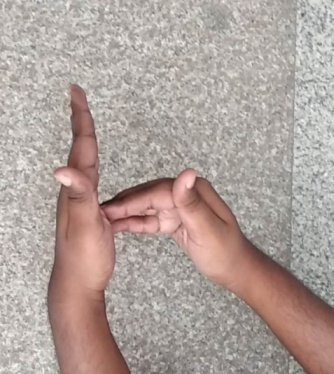ga: (37, 79, 229, 294)
